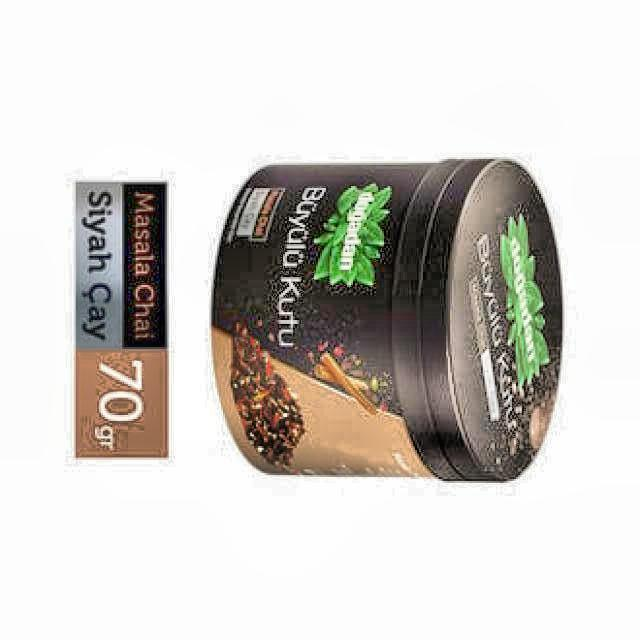plastic: (212, 160, 563, 482)
